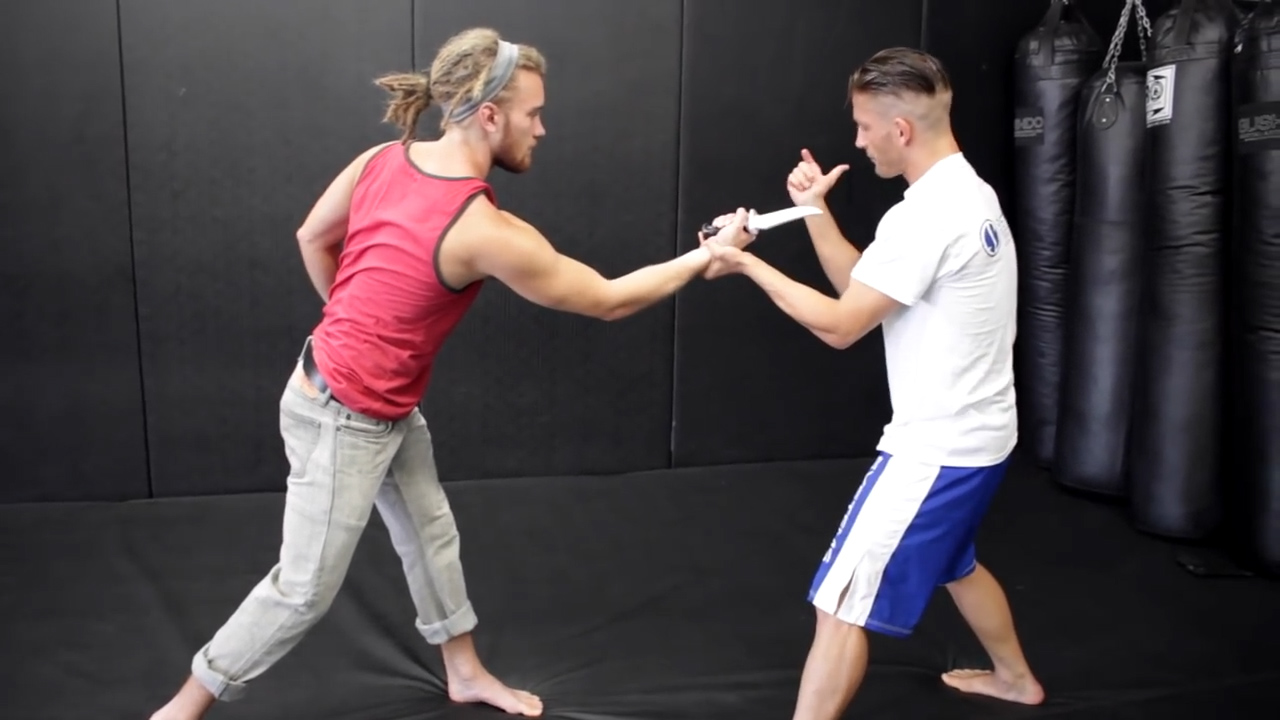knife: (686, 192, 833, 246)
